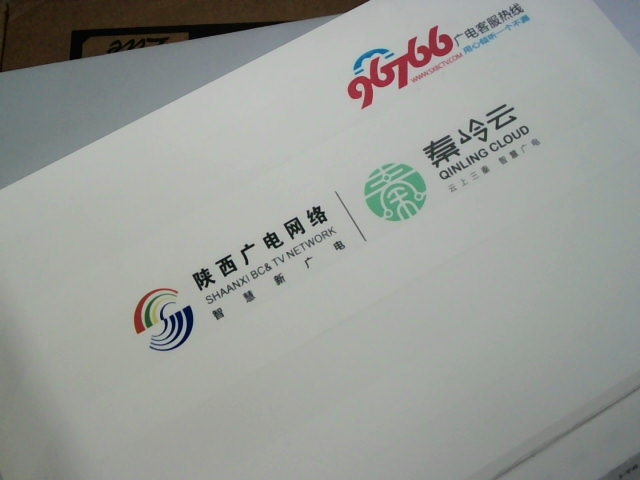AE_QinLing: (343, 98, 572, 235)
